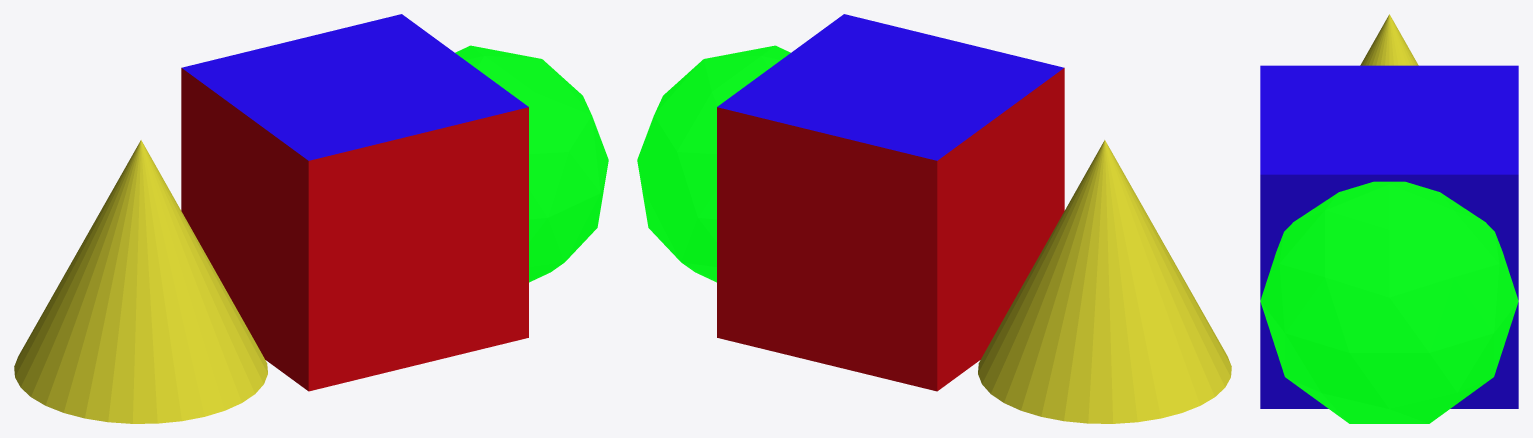
Rendered from gltfTest.gltf.
The picture shows the model from 3 angles, left to right: view 1: azimuth 30°, elevation 25°; view 2: azimuth 150°, elevation 25°; view 3: azimuth 270°, elevation 25°; orthographic projection.
Parts seen in each view (by area): view 1: Cube, Cone, Icosphere; view 2: Cube, Cone, Icosphere; view 3: Icosphere, Cube, Cone.
Part boxes in pixels (x1=…): Cube: x1=181, y1=14, x2=528, y2=391; Cone: x1=14, y1=140, x2=267, y2=423; Icosphere: x1=455, y1=45, x2=608, y2=282; Cube: x1=717, y1=14, x2=1064, y2=391; Cone: x1=978, y1=140, x2=1231, y2=423; Icosphere: x1=637, y1=45, x2=790, y2=282; Icosphere: x1=1260, y1=181, x2=1518, y2=423; Cube: x1=1260, y1=65, x2=1518, y2=408; Cone: x1=1360, y1=14, x2=1418, y2=65.
Bounding box in the file's own units: 5.07 × 2 × 2.
